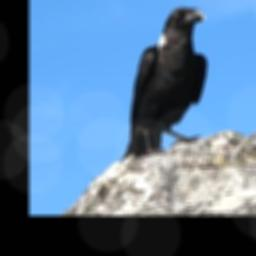Crow: (119, 3, 210, 164)
